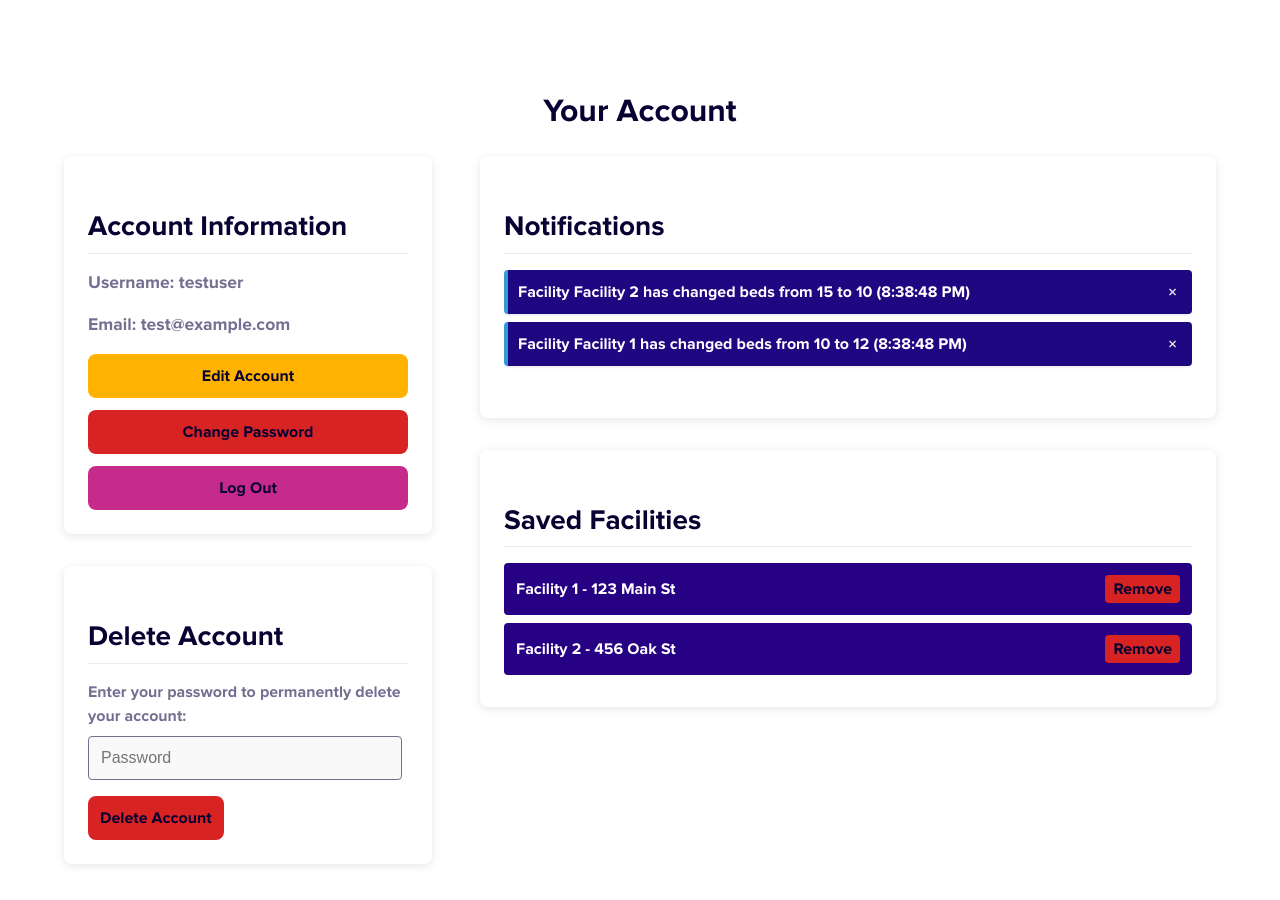
Account Component › handles bed count changes with notifications
Expected: the heading "Saved Facilities" is shown, [504,502,1192,547]
Expected: the text "Facility 1 has changed beds from 10 to 12" is shown, [518,334,869,354]
What coordinates should you click on to do the following:
click the 1st button "×"
I would click on:
 (1172, 292)
Its box is [1163,280,1182,302].
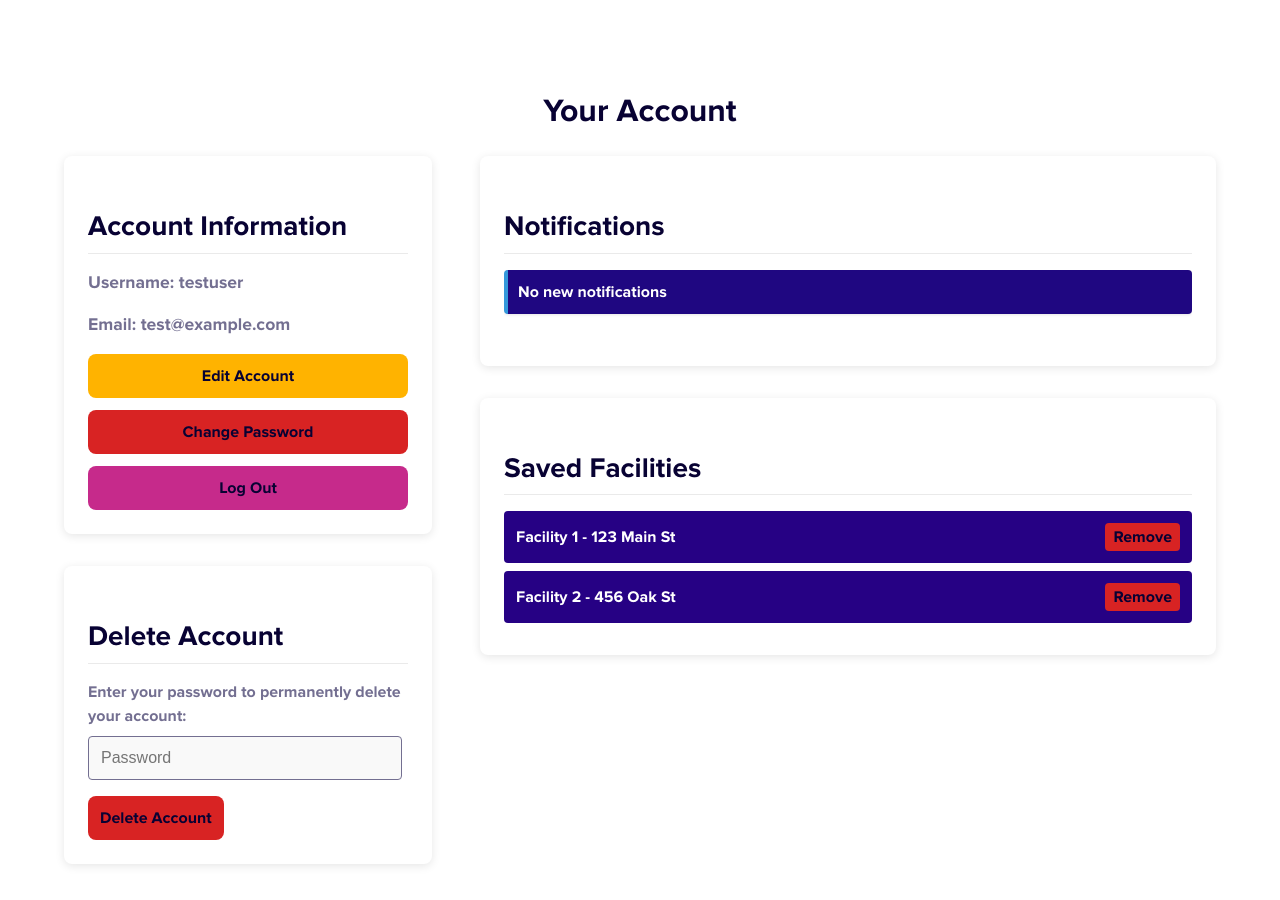
Expected: the text "Facility 1 has changed beds from 10 to 12" is gone
